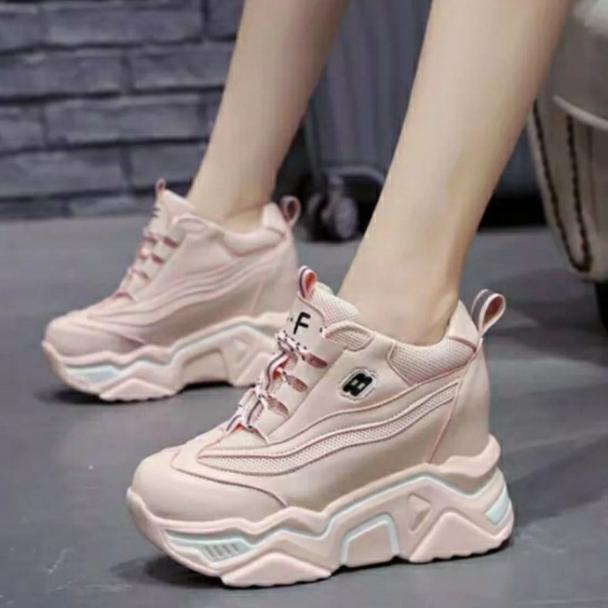Sepatu: (100, 252, 532, 608), (32, 158, 313, 417)
